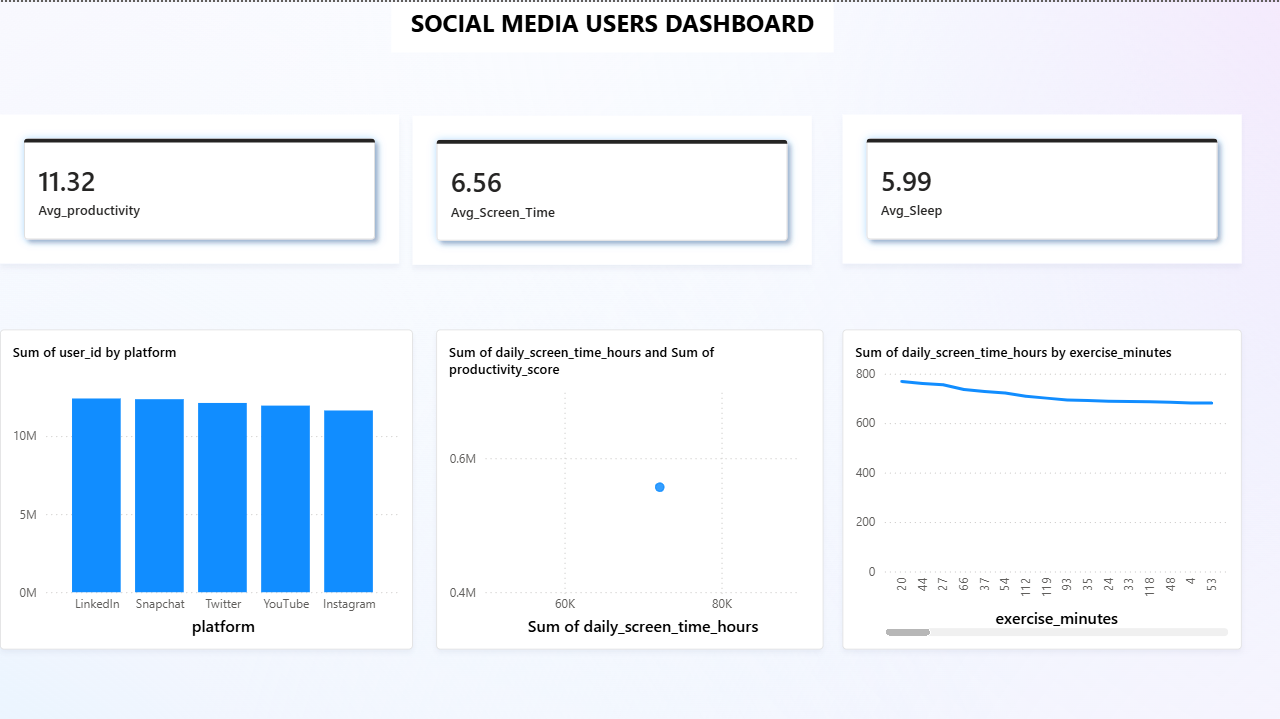

Layout of this report page (visuals, bound fields, positions):
{"tool":"powerbi","page":{"name":"Page 1","canvas":[1280,720],"ordinal":0},"visuals":[{"type":"textbox","box":[391.2,0,442.5,50],"z":0},{"type":"cardVisual","fields":{"Data":["cleaned_new_data.Avg_productivity"]},"box":[0,112.5,399.3,149.6],"z":1000},{"type":"cardVisual","fields":{"Data":["cleaned_new_data.Avg_Screen_Time"]},"box":[413,113.9,399.3,149.6],"z":2000},{"type":"cardVisual","fields":{"Data":["cleaned_new_data.Avg_Sleep"]},"box":[842.5,112.5,399.3,149.6],"z":3000},{"type":"columnChart","fields":{"Category":["cleaned_new_data.platform"],"Y":["Sum(cleaned_new_data.user_id)"]},"box":[0,328,413,319.7],"z":4000},{"type":"scatterChart","fields":{"X":["Sum(cleaned_new_data.daily_screen_time_hours)"],"Y":["Sum(cleaned_new_data.productivity_score)"]},"box":[436.4,328,387,319.7],"z":5000},{"type":"lineChart","fields":{"Category":["cleaned_new_data.exercise_minutes"],"Y":["Sum(cleaned_new_data.daily_screen_time_hours)"]},"box":[843,328,399,320],"z":6000}]}

Visuals, with their boxes in screenshot pixels (x1, y1, x2, y2), scaled from the page's 1280x720 canvas onto the 1280x719 screenshot:
textbox: l=391, t=0, r=834, b=50
cardVisual - cleaned_new_data.Avg_productivity: l=0, t=112, r=399, b=262
cardVisual - cleaned_new_data.Avg_Screen_Time: l=413, t=114, r=812, b=263
cardVisual - cleaned_new_data.Avg_Sleep: l=842, t=112, r=1242, b=262
columnChart - cleaned_new_data.platform x Sum(cleaned_new_data.user_id): l=0, t=328, r=413, b=647
scatterChart - Sum(cleaned_new_data.daily_screen_time_hours) x Sum(cleaned_new_data.productivity_score): l=436, t=328, r=823, b=647
lineChart - cleaned_new_data.exercise_minutes x Sum(cleaned_new_data.daily_screen_time_hours): l=843, t=328, r=1242, b=647
